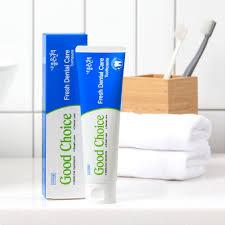toothpaste: (78, 38, 130, 212)
